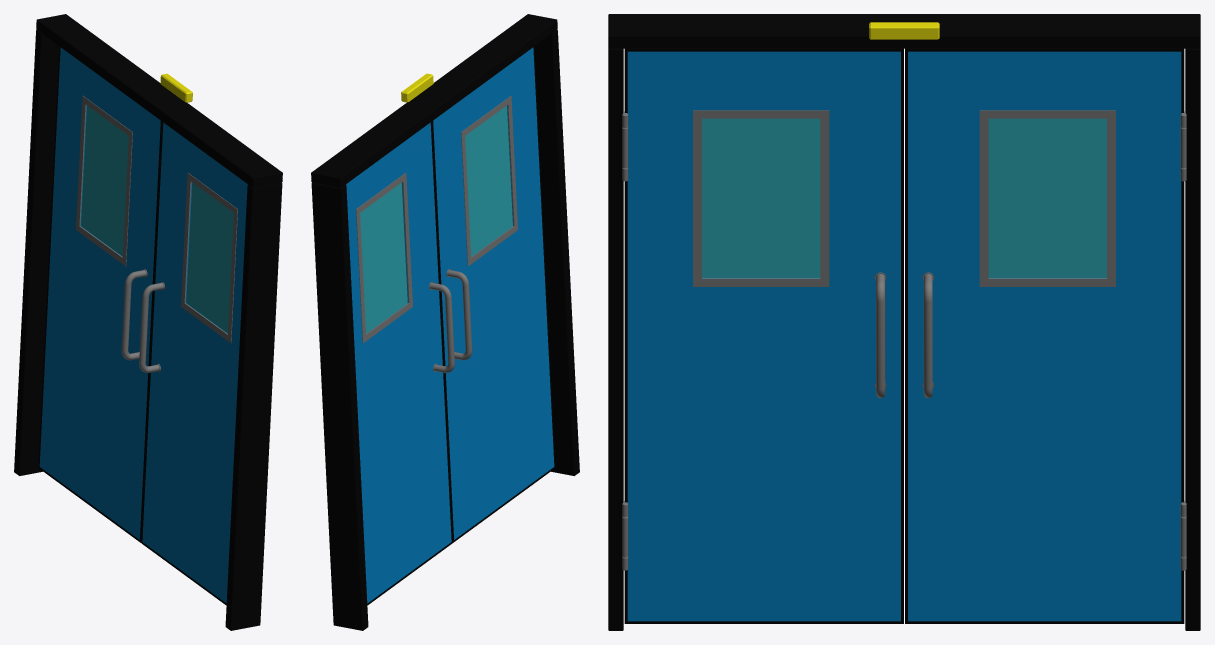
The model's file is main_doors.fbx.
The picture shows the model from 3 angles, left to right: view 1: azimuth 30°, elevation 25°; view 2: azimuth 150°, elevation 25°; view 3: azimuth 270°, elevation 25°; orthographic projection. The views are drawn at different scales.
Parts seen in each view (by area): view 1: Right door; view 2: Right door; view 3: Right door.
Boxes of the visible parts, left/top/right/bottom form: Right door: left=14, top=14, right=282, bottom=630; Right door: left=311, top=14, right=579, bottom=630; Right door: left=608, top=14, right=1200, bottom=630.
Size of the model in its own units: 32.12 by 226 by 194.
